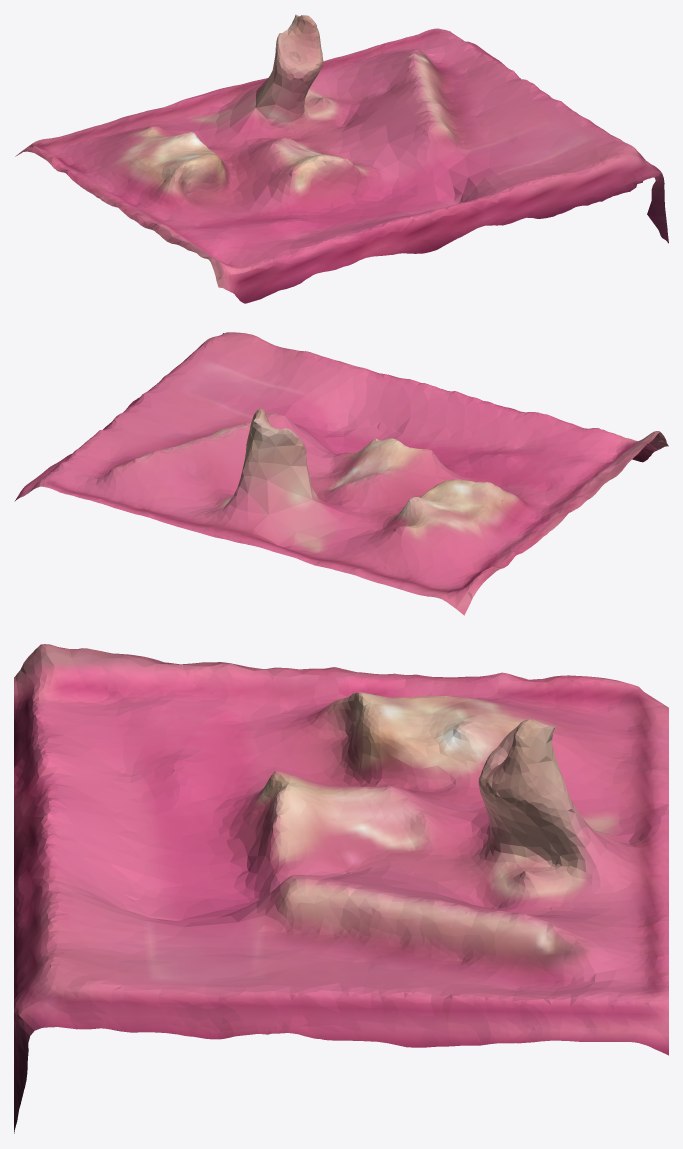
Rendered from Glass Syringe Shards OLF 2025.gltf.
3 views of the same model, one above another, from view 1: azimuth 30°, elevation 25°; view 2: azimuth 150°, elevation 25°; view 3: azimuth 270°, elevation 25° (orthographic). The views are drawn at different scales.
Parts seen in each view (by area): view 1: Node1; view 2: Node1; view 3: Node1.
Part boxes in pixels (left/top/right/bottom): Node1: left=15, top=14, right=668, bottom=303; Node1: left=14, top=332, right=668, bottom=615; Node1: left=14, top=644, right=668, bottom=1133.
Size of the model in its own units: 0.0679 by 0.0231 by 0.0534.
Materials: 1 (1 with a texture image).
